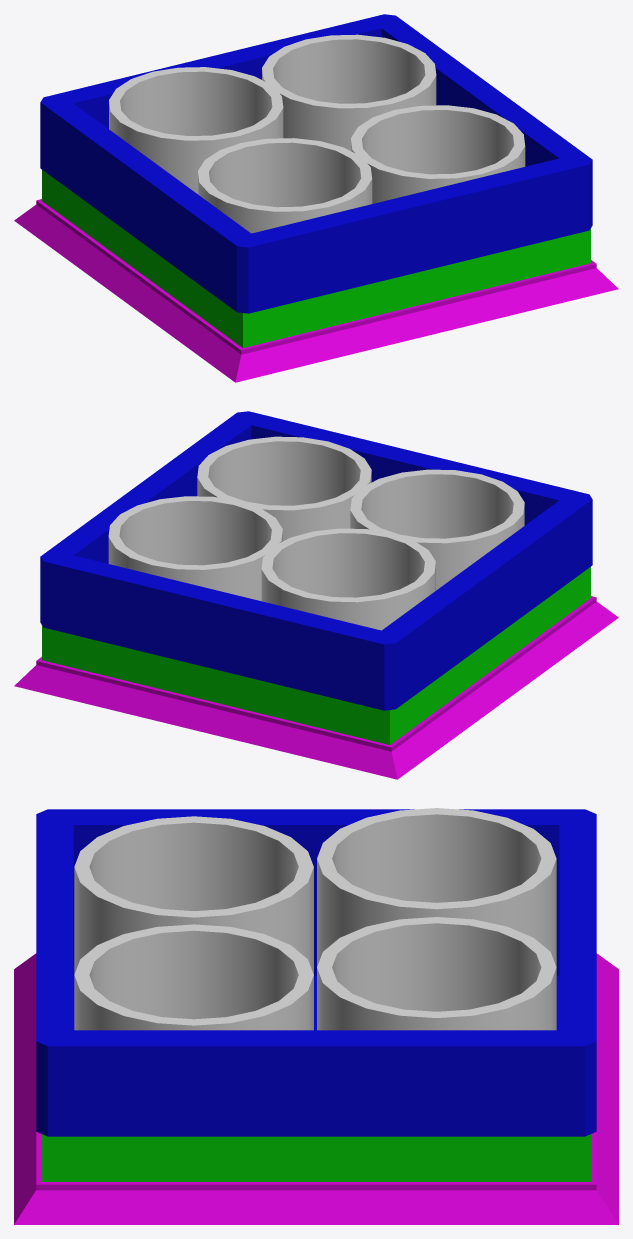
The model's file is FireTrap.fbx.
3 views of the same model, one above another, from view 1: azimuth 30°, elevation 25°; view 2: azimuth 150°, elevation 25°; view 3: azimuth 270°, elevation 25° (orthographic). The views are drawn at different scales.
Parts seen in each view (by area): view 1: polySurface1, polySurface2, polySurface3, polySurface5, polySurface4; view 2: polySurface1, polySurface2, polySurface3, polySurface5, polySurface4; view 3: polySurface1, polySurface2, polySurface5, polySurface3, polySurface4.
Part boxes in pixels (<box>): polySurface1: <box>14,14,618,382</box>; polySurface2: <box>109,67,283,193</box>; polySurface3: <box>262,34,436,150</box>; polySurface5: <box>198,138,372,233</box>; polySurface4: <box>351,105,525,203</box>; polySurface1: <box>14,411,618,779</box>; polySurface2: <box>261,528,435,630</box>; polySurface3: <box>108,496,282,601</box>; polySurface5: <box>350,469,524,590</box>; polySurface4: <box>197,436,371,541</box>; polySurface1: <box>14,809,618,1224</box>; polySurface2: <box>317,808,556,966</box>; polySurface5: <box>74,816,313,974</box>; polySurface3: <box>317,917,556,1030</box>; polySurface4: <box>74,924,313,1030</box>.
Size of the model in its own units: 302 by 103 by 302.
